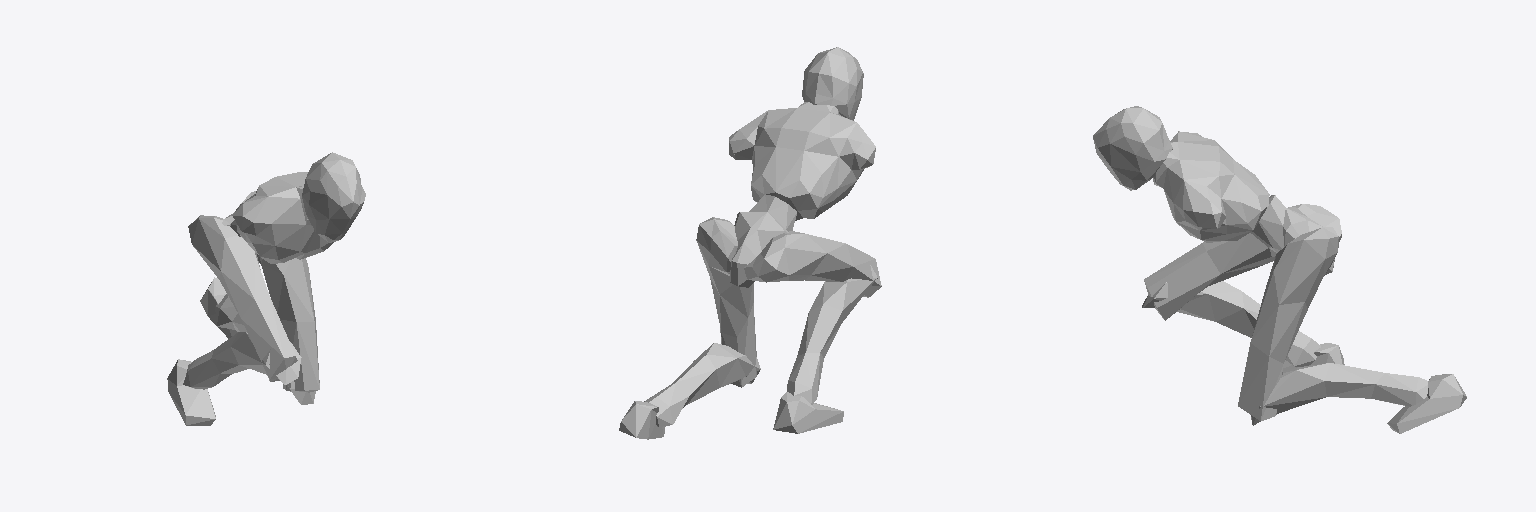
The model's file is filth16.obj.
3 views of the same model, side by side, from view 1: azimuth 30°, elevation 25°; view 2: azimuth 150°, elevation 25°; view 3: azimuth 270°, elevation 25° (orthographic).
Parts seen in each view (by area): view 1: Melee_Husk; view 2: Melee_Husk; view 3: Melee_Husk.
Part boxes in pixels (bbox=[...]): Melee_Husk: bbox=[167, 152, 365, 425]; Melee_Husk: bbox=[619, 47, 881, 439]; Melee_Husk: bbox=[1093, 106, 1466, 433].
Bounding box in the file's own units: 22.19 × 44.03 × 49.29.